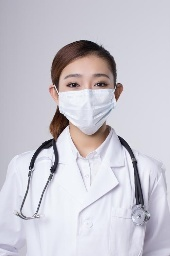correctlyWear: (48, 63, 123, 136)
